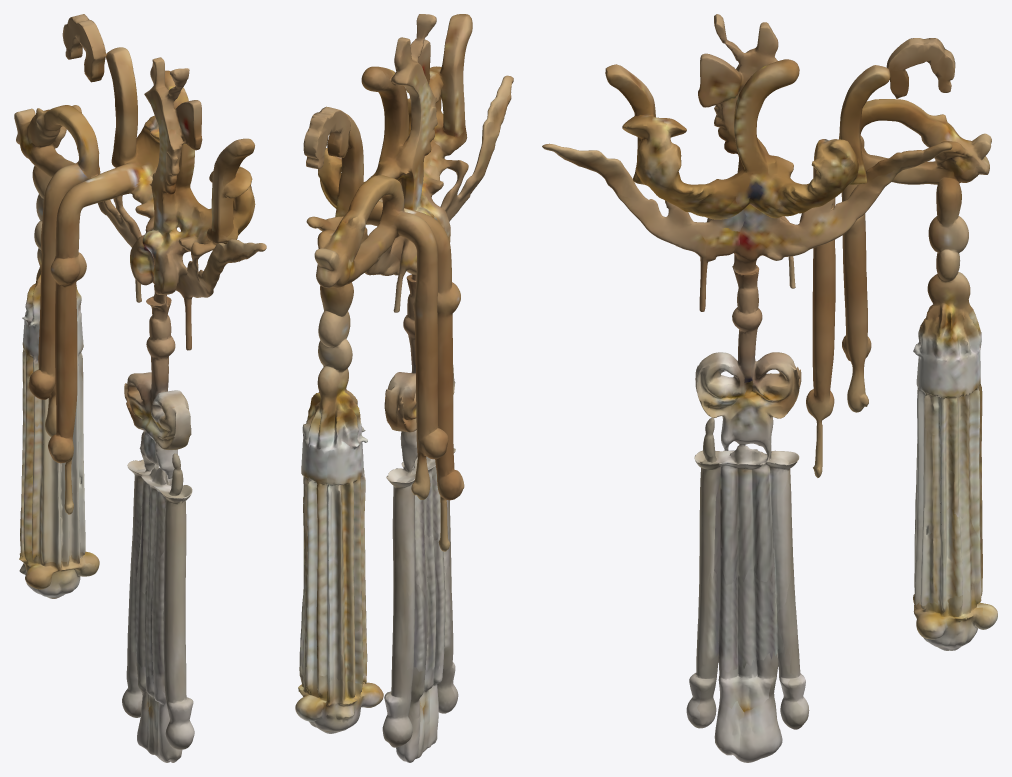
File: phu_kien_1.glb
3 views of the same model, side by side, from view 1: azimuth 30°, elevation 25°; view 2: azimuth 150°, elevation 25°; view 3: azimuth 270°, elevation 25° (orthographic). The views are drawn at different scales.
Parts seen in each view (by area): view 1: PhuKien_1; view 2: PhuKien_1; view 3: PhuKien_1.
Boxes of the visible parts, x1,y1,x2,y2 form: PhuKien_1: [14, 14, 266, 762]; PhuKien_1: [295, 14, 513, 762]; PhuKien_1: [542, 14, 997, 762].
Bounding box in the file's own units: 0.0362 × 0.1856 × 0.1028.
Materials: 1 (1 with a texture image).
